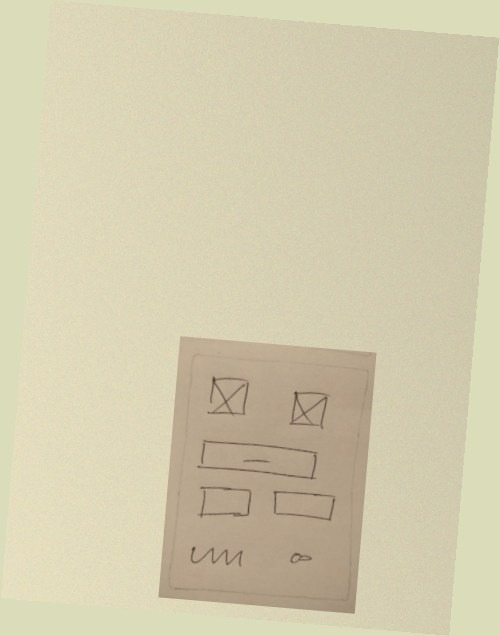button: (195, 436, 320, 482)
image: (204, 372, 252, 421), (286, 386, 331, 433)
switch: (282, 546, 319, 569)
text: (185, 543, 248, 573)
text_input: (266, 486, 339, 526), (192, 483, 255, 526)
